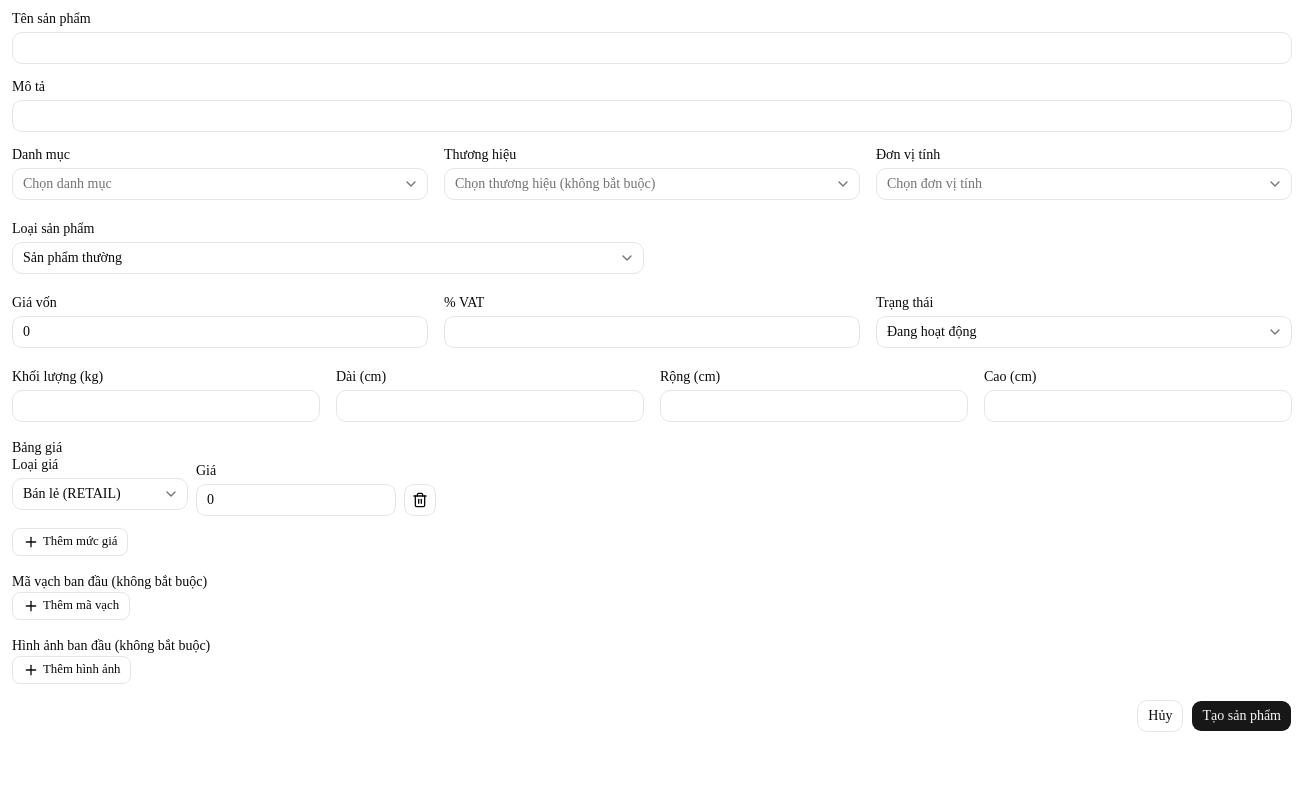
Test: ProductCreateForm (T043 Phase E) › the Variant Parent picker only appears when type=VARIANT_CHILD
Expected: the field labelled "Tên sản phẩm" is shown, [12, 32, 1292, 64]
Expected: the field labelled "Sản phẩm cha (Variant Parent)" is not shown
Click the dropdown named "Loại sản phẩm".
click(72, 258)  # box [12, 242, 644, 274]
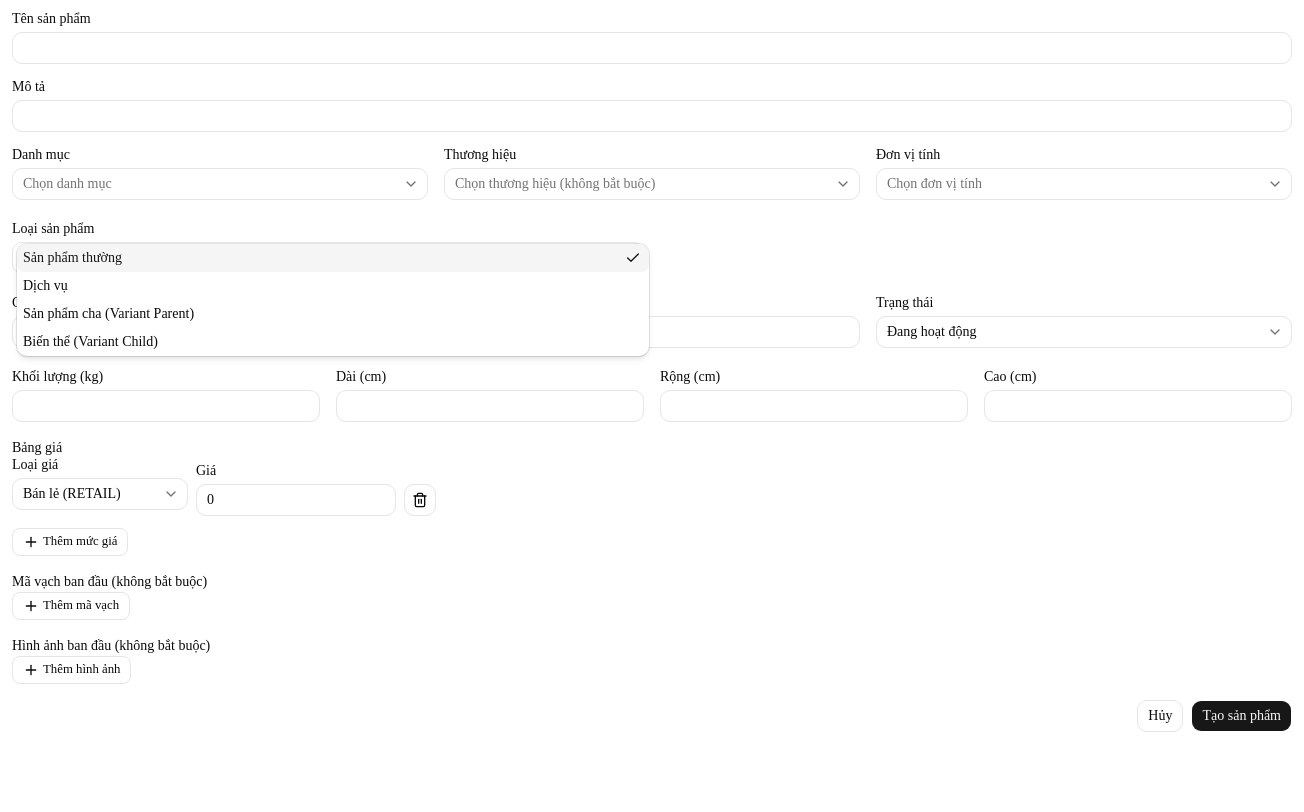
Click the option "Biến thể (Variant Child)".
click(90, 342)  # box [23, 334, 158, 349]
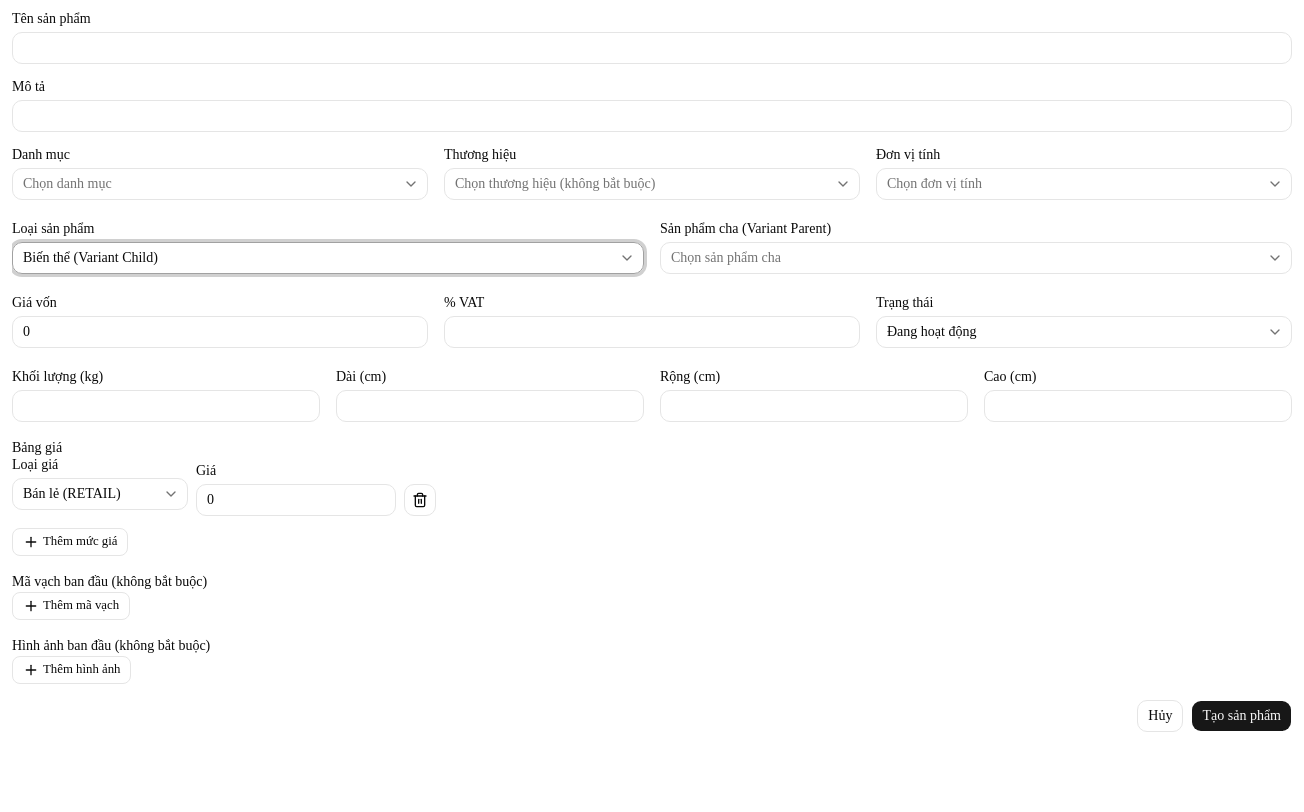
Expected: the dropdown named "Sản phẩm cha (Variant Parent)" is shown, [660, 242, 1292, 274]
Click the dropdown named "Loại sản phẩm".
click(90, 258)  # box [12, 242, 644, 274]
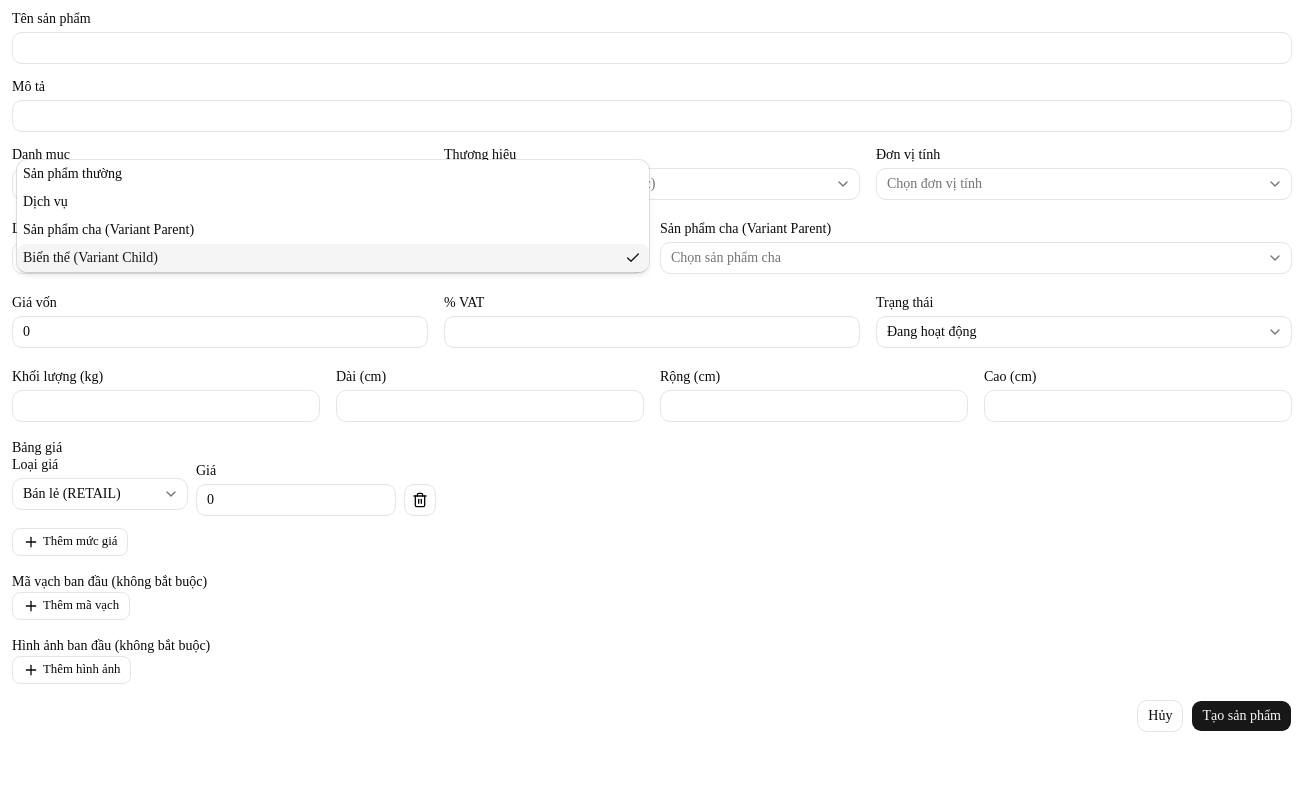
Click the option "Sản phẩm thường".
click(72, 174)  # box [23, 166, 122, 181]
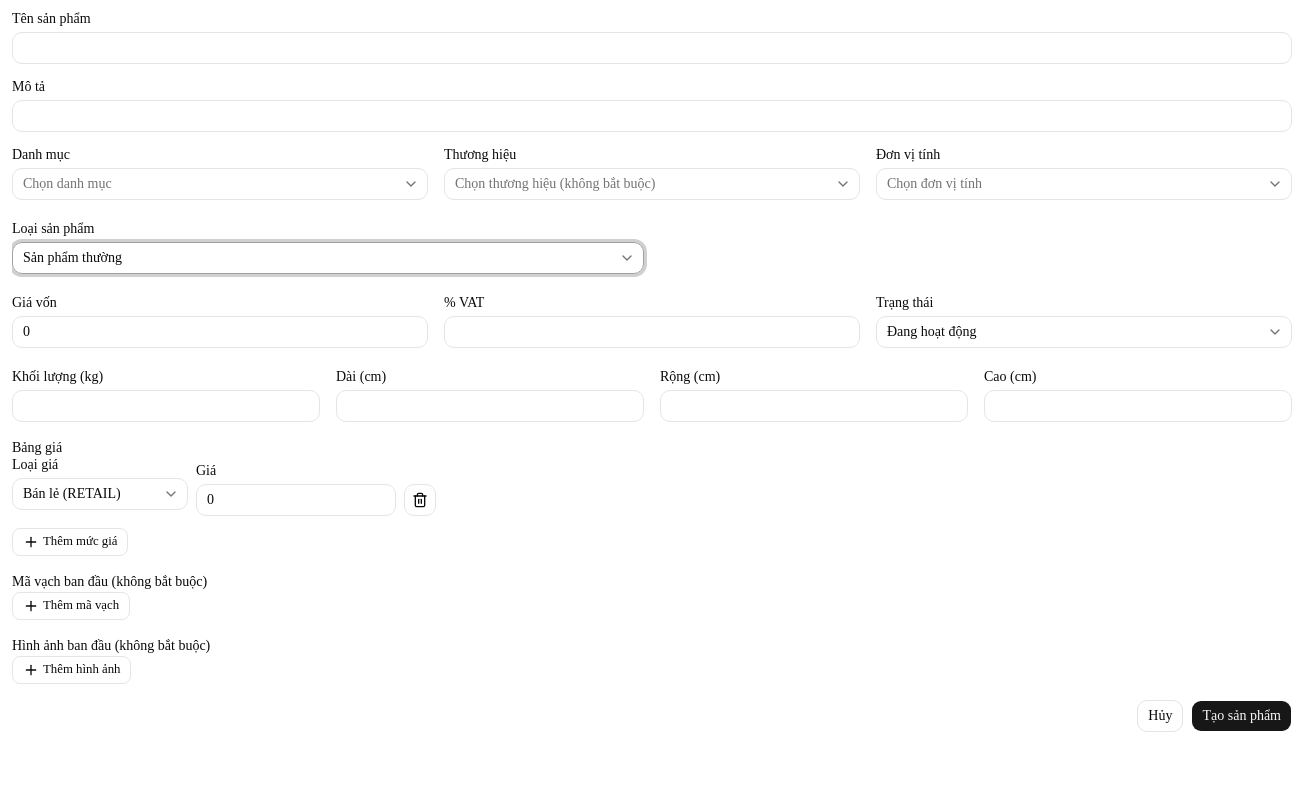
Expected: the label labelled "Sản phẩm cha (Variant Parent)" is gone
